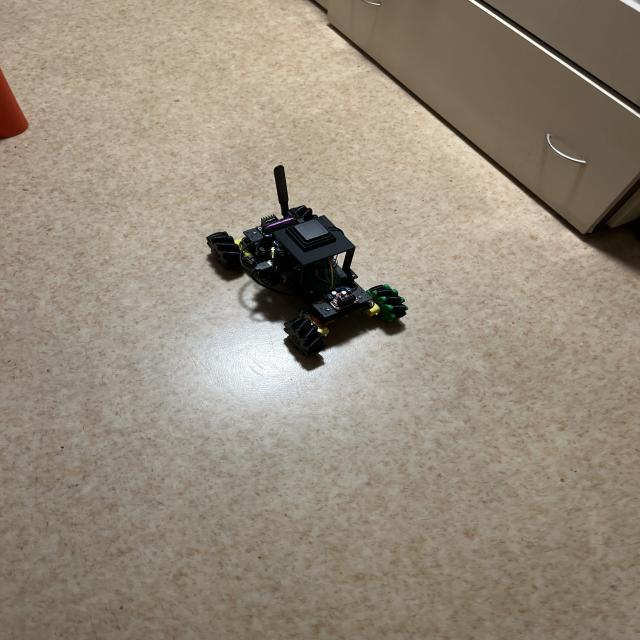robot: (206, 165, 408, 355)
